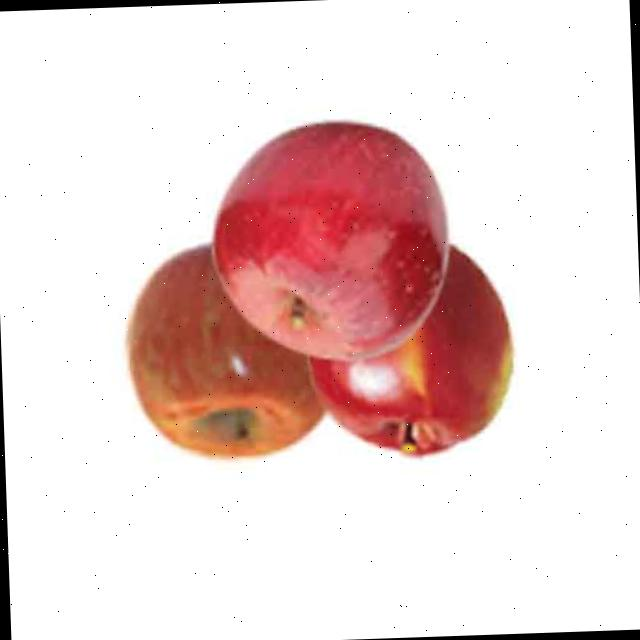Apel: (207, 118, 455, 367), (306, 243, 518, 464), (123, 241, 327, 465)
